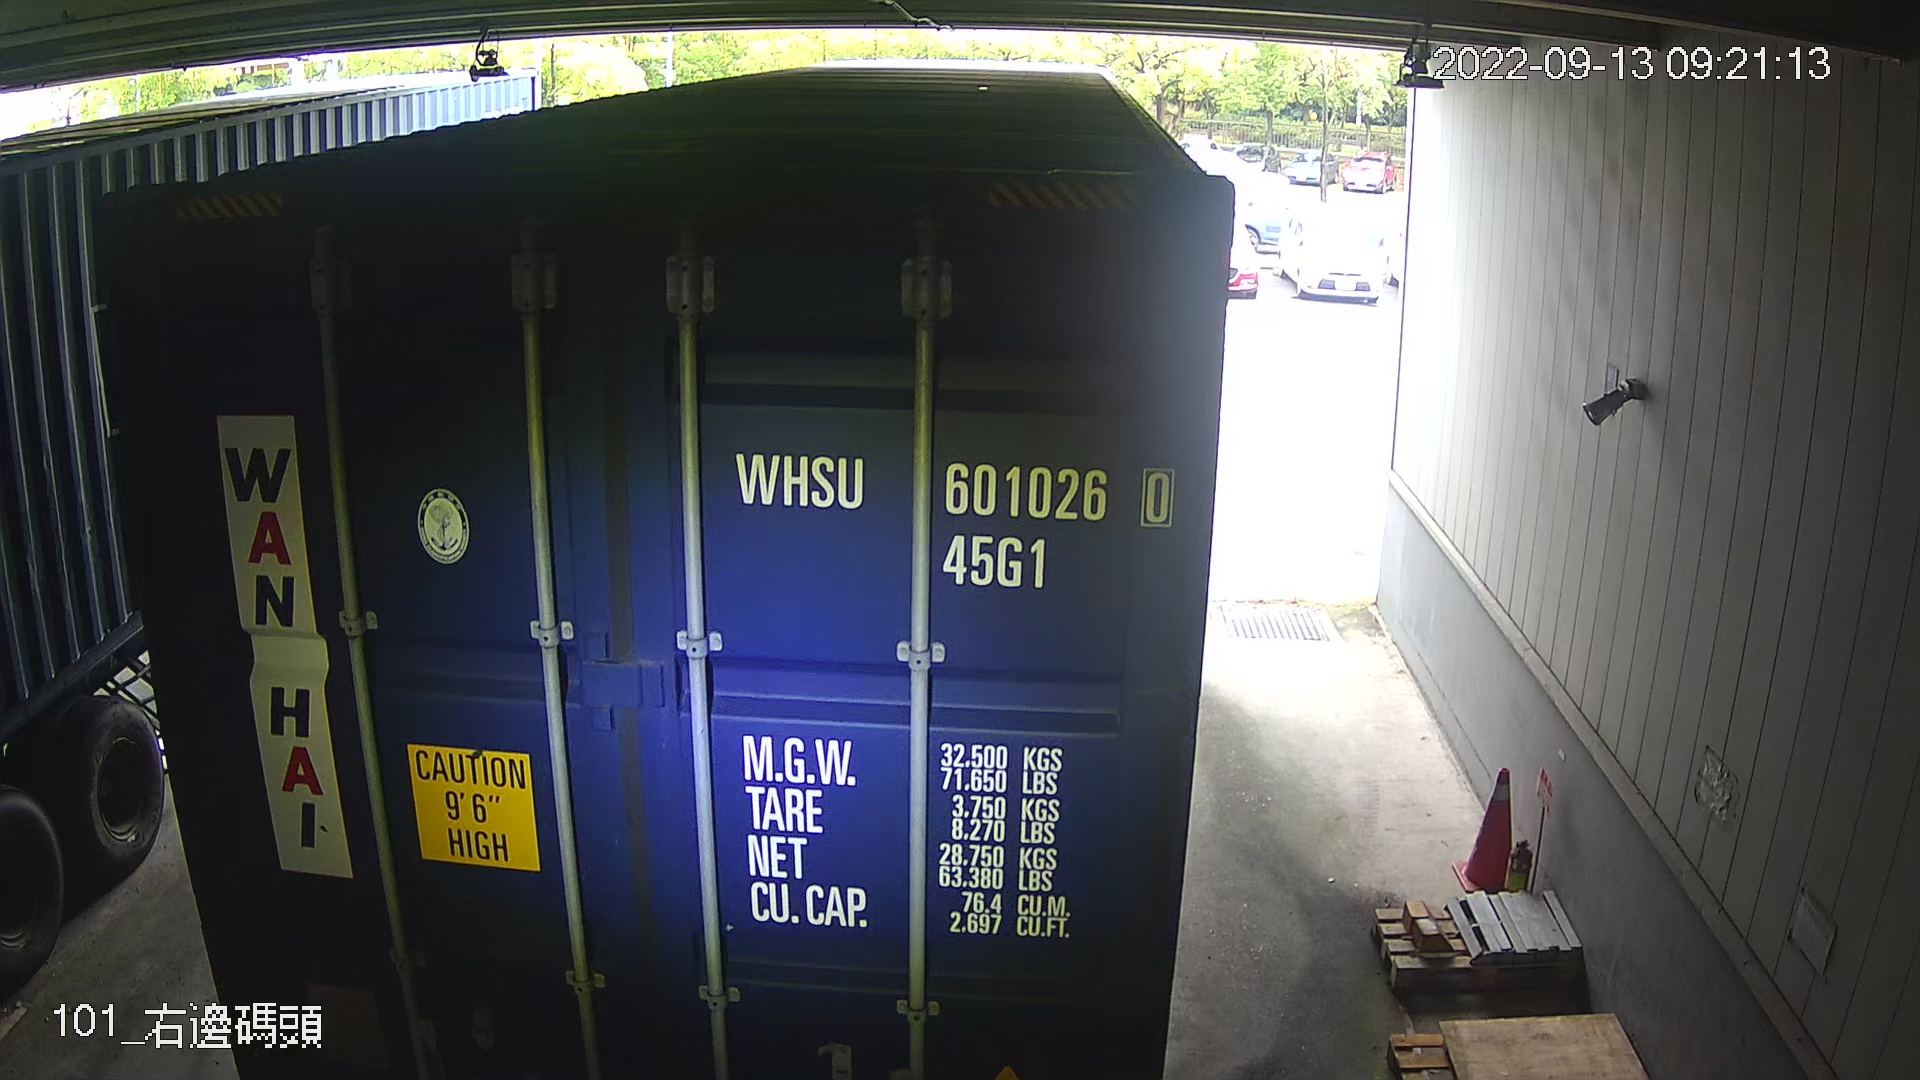container: (725, 430, 1187, 604)
